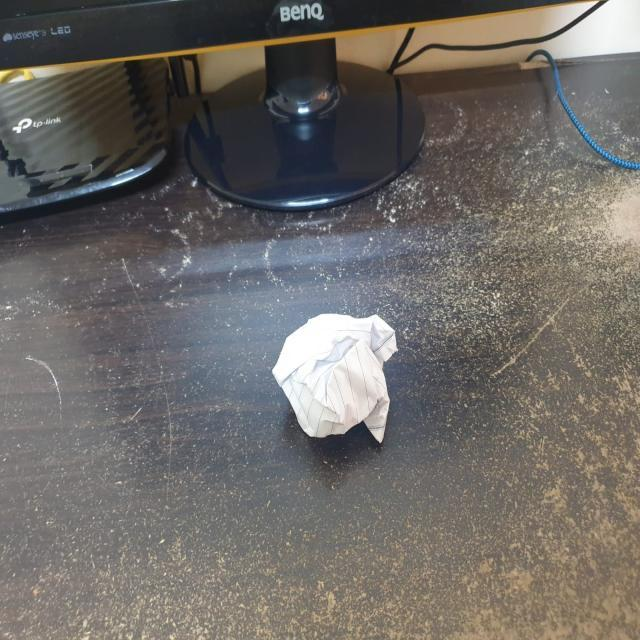Paper: (273, 307, 399, 443)
